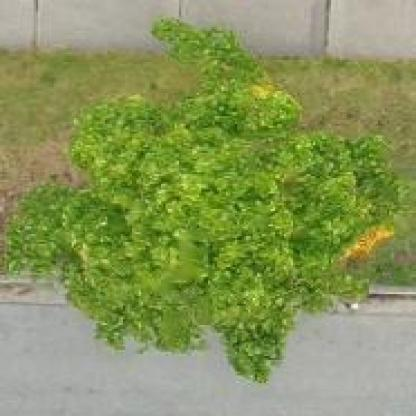Deciduous Tree: (7, 20, 405, 369)
